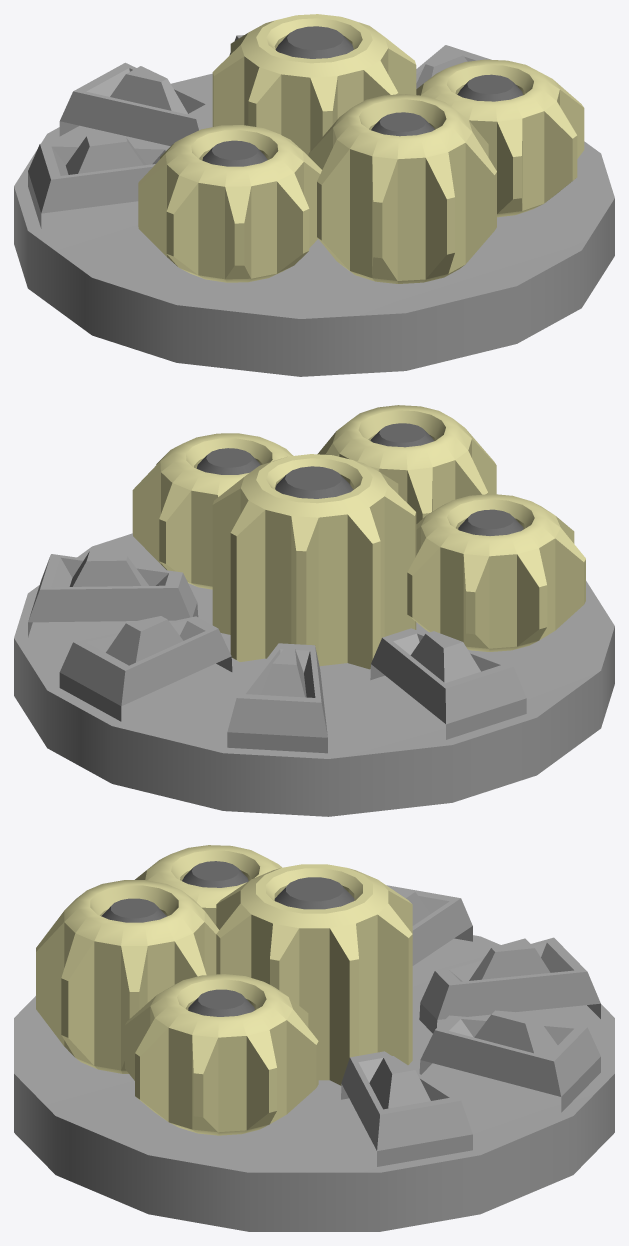
Rendered from Base_lowkey_hnusna_hodne_demo.fbx.
The picture shows the model from 3 angles, top to bottom: view 1: azimuth 30°, elevation 25°; view 2: azimuth 150°, elevation 25°; view 3: azimuth 270°, elevation 25°; orthographic projection. The views are drawn at different scales.
Parts seen in each view (by area): view 1: pCylinder541, pCylinder535, pCylinder552, pCylinder555, pCylinder526, pCylinder551, pCylinder554, pCylinder550, pCylinder553, pCylinder536; view 2: pCylinder541, pCylinder555, pCylinder526, pCylinder552, pCylinder551, pCylinder535, pCylinder554, pCylinder550, pCylinder553, pCylinder536; view 3: pCylinder541, pCylinder555, pCylinder526, pCylinder551, pCylinder535, pCylinder552, pCylinder554, pCylinder550, pCylinder553, pCylinder536.
Part boxes in pixels (box(x1,y1,x2,y2)): pCylinder541: box(14, 73, 614, 376); pCylinder535: box(308, 94, 496, 283); pCylinder552: box(138, 125, 321, 282); pCylinder555: box(28, 35, 491, 228); pCylinder526: box(212, 14, 416, 155); pCylinder551: box(416, 59, 584, 217); pCylinder554: box(275, 26, 353, 58); pCylinder550: box(457, 74, 522, 101); pCylinder553: box(202, 140, 267, 166); pCylinder536: box(371, 112, 434, 136); pCylinder541: box(14, 533, 614, 816); pCylinder555: box(28, 551, 526, 753); pCylinder526: box(212, 454, 416, 669); pCylinder552: box(407, 494, 585, 651); pCylinder551: box(132, 433, 293, 589); pCylinder535: box(317, 405, 496, 523); pCylinder554: box(275, 466, 353, 498); pCylinder550: box(196, 448, 260, 474); pCylinder553: box(458, 509, 523, 535); pCylinder536: box(370, 423, 433, 447); pCylinder541: box(14, 935, 614, 1231); pCylinder555: box(341, 885, 600, 1166); pCylinder526: box(216, 864, 412, 1085); pCylinder551: box(125, 974, 318, 1135); pCylinder535: box(36, 880, 219, 1073); pCylinder552: box(135, 845, 281, 925); pCylinder554: box(274, 877, 354, 909); pCylinder550: box(188, 989, 254, 1016); pCylinder553: box(182, 861, 248, 887); pCylinder536: box(101, 898, 166, 922).
Size of the model in its own units: 121 by 48.15 by 121.
